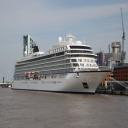cruises: (11, 34, 116, 99)
